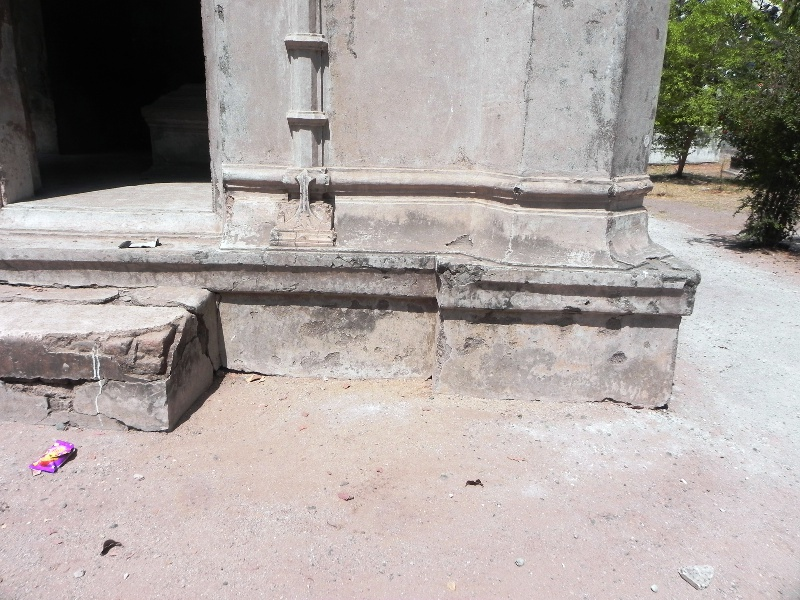Spalling: (420, 255, 482, 296)
